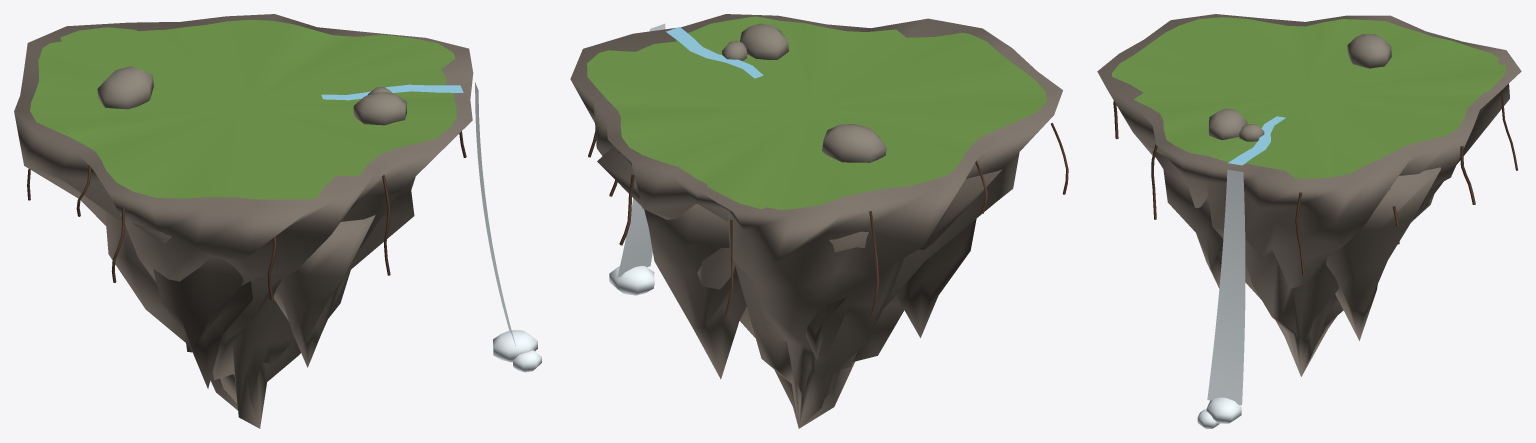
The model's file is sky-isle.glb.
3 renders of one model, left to right at view 1: azimuth 30°, elevation 25°; view 2: azimuth 150°, elevation 25°; view 3: azimuth 270°, elevation 25°, orthographic. The views are drawn at different scales.
Visible parts, largest first — view 1: Mesh_Grass, Mesh_Rock, Mesh_Crag1, Mesh_Crag2, Mesh_Boulder0, Mesh_Boulder1, Mesh_Spray0, Mesh_Waterfall, Mesh_Stream; view 2: Mesh_Grass, Mesh_Rock, Mesh_Crag0, Mesh_Crag1, Mesh_Boulder0, Mesh_Waterfall, Mesh_Boulder1, Mesh_Crag3, Mesh_Spray0, Mesh_Stream; view 3: Mesh_Grass, Mesh_Rock, Mesh_Crag0, Mesh_Waterfall, Mesh_Crag2, Mesh_Boulder0, Mesh_Boulder1, Mesh_Spray0, Mesh_Stream.
Boxes of the visible parts, x1=… form: Mesh_Grass: x1=30, y1=19, x2=456, y2=199; Mesh_Rock: x1=14, y1=14, x2=473, y2=428; Mesh_Crag1: x1=121, y1=216, x2=252, y2=388; Mesh_Crag2: x1=273, y1=215, x2=375, y2=367; Mesh_Boulder0: x1=97, y1=66, x2=153, y2=109; Mesh_Boulder1: x1=353, y1=92, x2=406, y2=125; Mesh_Spray0: x1=493, y1=330, x2=537, y2=362; Mesh_Waterfall: x1=475, y1=82, x2=515, y2=345; Mesh_Stream: x1=321, y1=84, x2=463, y2=100; Mesh_Grass: x1=587, y1=16, x2=1046, y2=209; Mesh_Rock: x1=570, y1=14, x2=1062, y2=428; Mesh_Crag0: x1=597, y1=146, x2=746, y2=379; Mesh_Crag1: x1=897, y1=169, x2=1001, y2=337; Mesh_Boulder0: x1=822, y1=124, x2=886, y2=162; Mesh_Waterfall: x1=617, y1=23, x2=665, y2=277; Mesh_Boulder1: x1=740, y1=23, x2=788, y2=59; Mesh_Crag3: x1=806, y1=231, x2=868, y2=359; Mesh_Spray0: x1=609, y1=266, x2=654, y2=295; Mesh_Stream: x1=666, y1=27, x2=763, y2=78; Mesh_Grass: x1=1112, y1=17, x2=1506, y2=178; Mesh_Rock: x1=1097, y1=14, x2=1521, y2=376; Mesh_Crag0: x1=1326, y1=167, x2=1440, y2=340; Mesh_Waterfall: x1=1207, y1=169, x2=1245, y2=405; Mesh_Crag2: x1=1152, y1=151, x2=1223, y2=288; Mesh_Boulder0: x1=1347, y1=34, x2=1391, y2=68; Mesh_Boulder1: x1=1208, y1=108, x2=1247, y2=139; Mesh_Spray0: x1=1206, y1=397, x2=1241, y2=423; Mesh_Stream: x1=1228, y1=116, x2=1285, y2=165.
Size of the model in its own units: 30.36 by 23.37 by 29.82.
